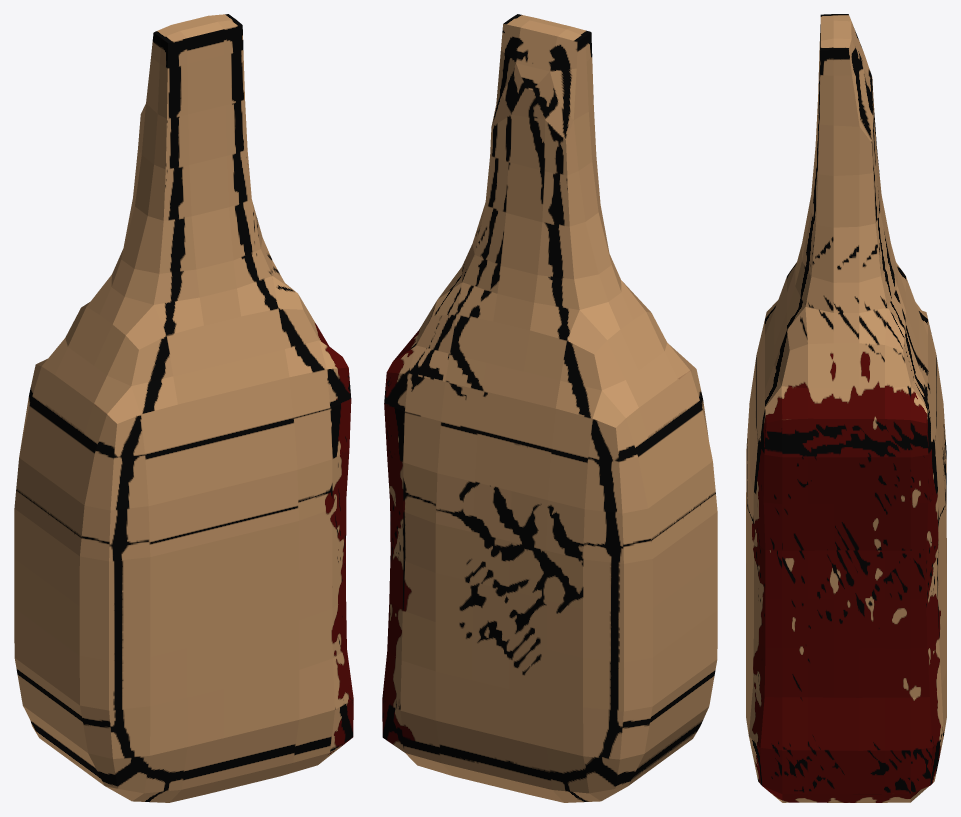
Rendered from Presunto_Low_Poly.glb.
3 renders of one model, left to right at view 1: azimuth 30°, elevation 25°; view 2: azimuth 150°, elevation 25°; view 3: azimuth 270°, elevation 25°, orthographic.
Visible parts, largest first — view 1: Cube.007; view 2: Cube.007; view 3: Cube.007.
Boxes of the visible parts, x1,y1,x2,y2 form: Cube.007: (14, 14, 353, 802); Cube.007: (382, 14, 717, 802); Cube.007: (746, 14, 946, 802).
Size of the model in its own units: 0.059 by 0.1559 by 0.0388.
Materials: 1 (1 with a texture image).
